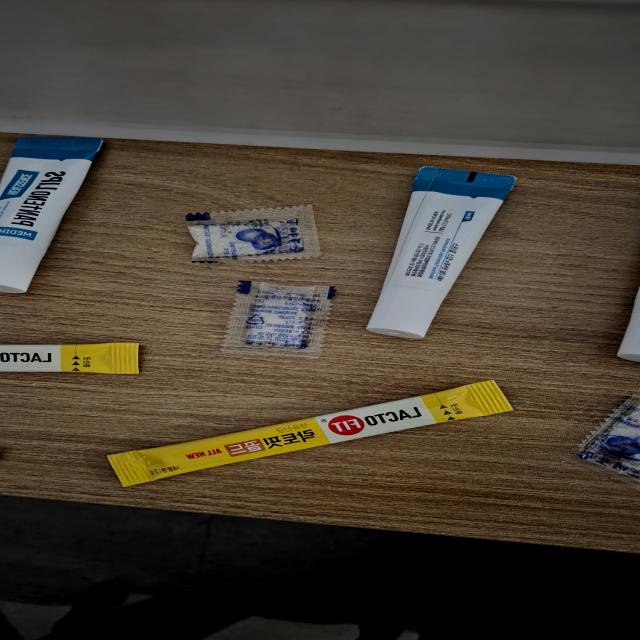lacto: (98, 378, 528, 492), (0, 332, 147, 383)
lib: (358, 163, 520, 346), (0, 134, 128, 294), (613, 282, 640, 364)
salt: (212, 281, 340, 364), (178, 205, 332, 270), (567, 384, 640, 489)
